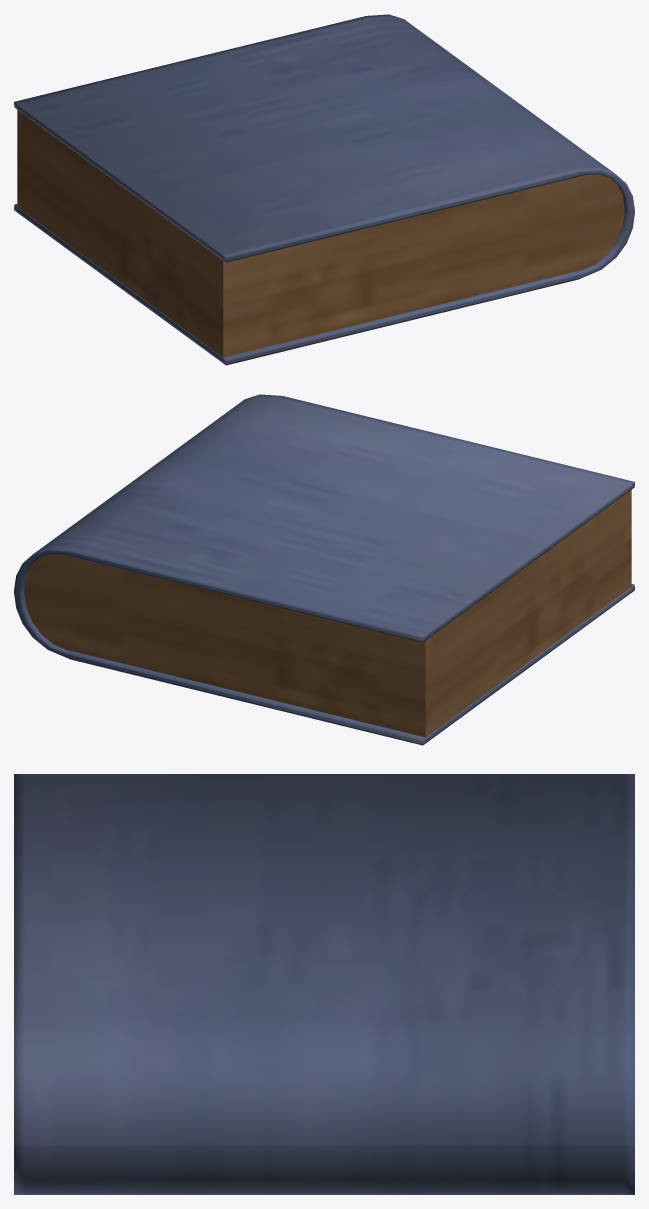
File: BOOK 8.fbx
The picture shows the model from 3 angles, top to bottom: view 1: azimuth 30°, elevation 25°; view 2: azimuth 150°, elevation 25°; view 3: azimuth 270°, elevation 25°; orthographic projection. The views are drawn at different scales.
Parts seen in each view (by area): view 1: BOOK 8; view 2: BOOK 8; view 3: BOOK 8.
Boxes of the visible parts, bbox=[...] form: BOOK 8: bbox=[14, 14, 634, 365]; BOOK 8: bbox=[14, 394, 634, 745]; BOOK 8: bbox=[14, 774, 634, 1194].
Bounding box in the file's own units: 0.6702 × 0.6018 × 0.1699.
